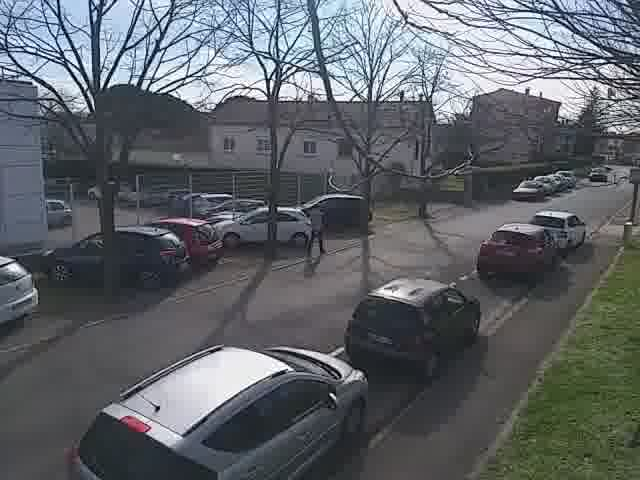persona: (299, 196, 332, 263)
